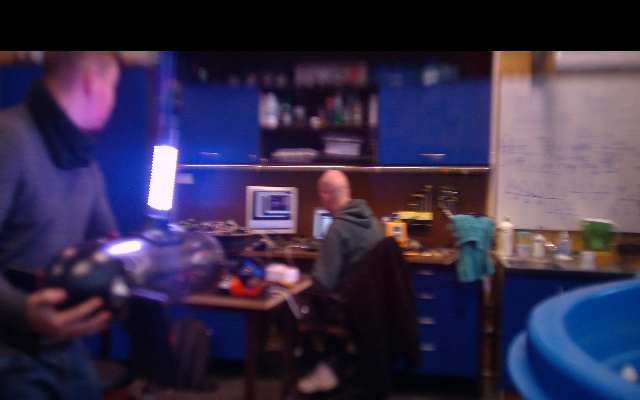white: (148, 146, 178, 211)
